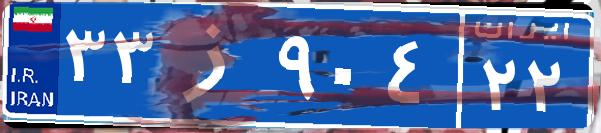0: (330, 28, 385, 110)
2: (475, 38, 525, 113), (525, 38, 570, 115)
3: (57, 26, 110, 107), (110, 28, 158, 105)
4: (385, 28, 445, 110)
9: (273, 28, 330, 110)
ز: (158, 15, 273, 115)
